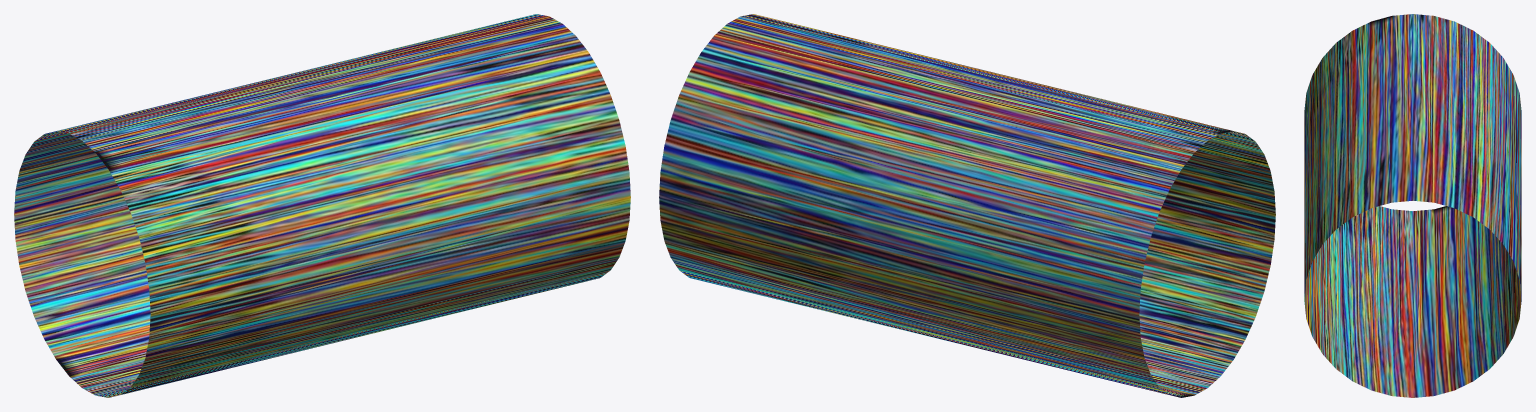
Rendered from suelo4.dae.
The picture shows the model from 3 angles, left to right: view 1: azimuth 30°, elevation 25°; view 2: azimuth 150°, elevation 25°; view 3: azimuth 270°, elevation 25°; orthographic projection. The views are drawn at different scales.
Parts seen in each view (by area): view 1: Cylinder; view 2: Cylinder; view 3: Cylinder.
Boxes of the visible parts, left/top/right/bottom form: Cylinder: left=14, top=14, right=630, bottom=397; Cylinder: left=659, top=14, right=1275, bottom=397; Cylinder: left=1304, top=14, right=1521, bottom=397.
Bounding box in the file's own units: 40.06 × 19.72 × 19.72.
Materials: 1 (1 with a texture image).
